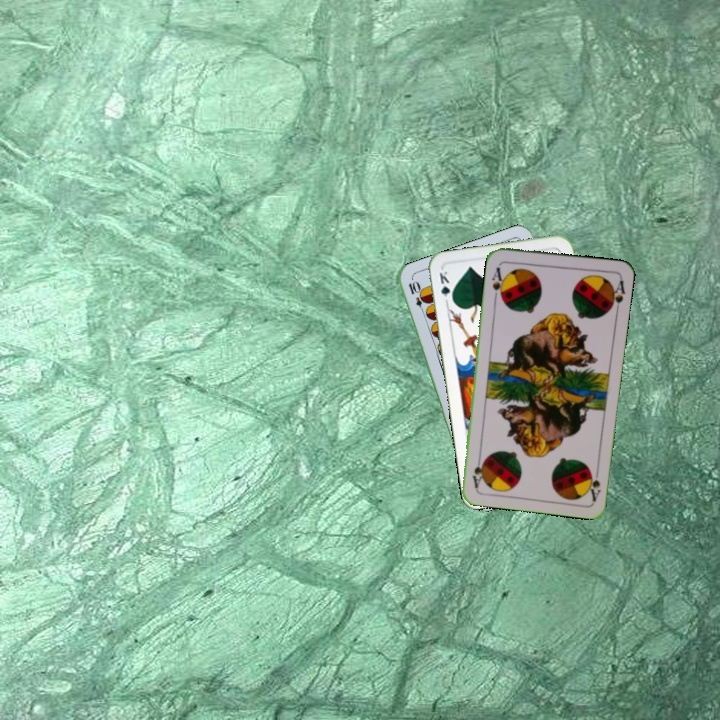E10: (404, 277, 429, 317)
GK: (435, 267, 456, 306)
SA: (488, 261, 508, 302), (583, 463, 603, 503)
